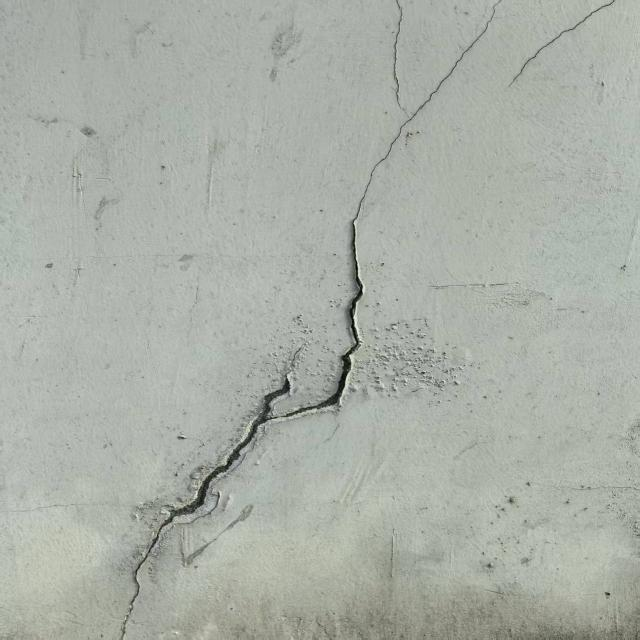crack: (111, 5, 528, 638), (504, 2, 625, 95)
